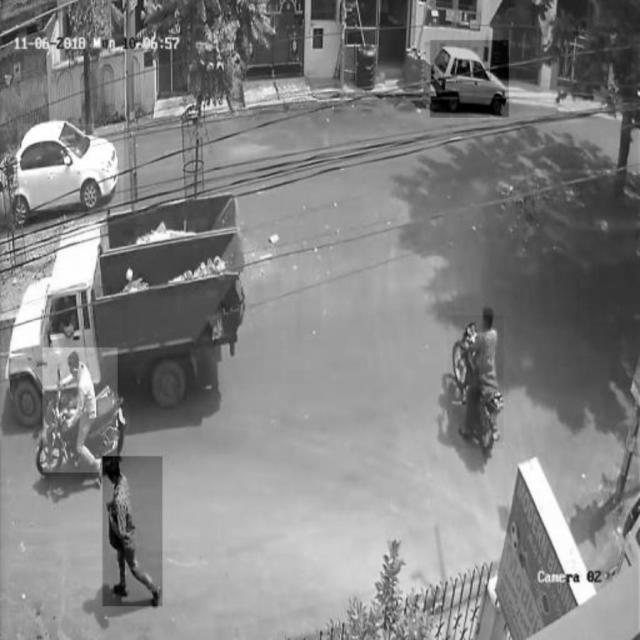person: (103, 456, 163, 606)
vehicle: (42, 348, 116, 472), (18, 124, 124, 210), (448, 315, 504, 449), (431, 41, 509, 118)
